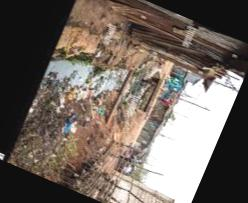Stagnant water: (40, 34, 158, 128)
Trash: (10, 91, 101, 190)
